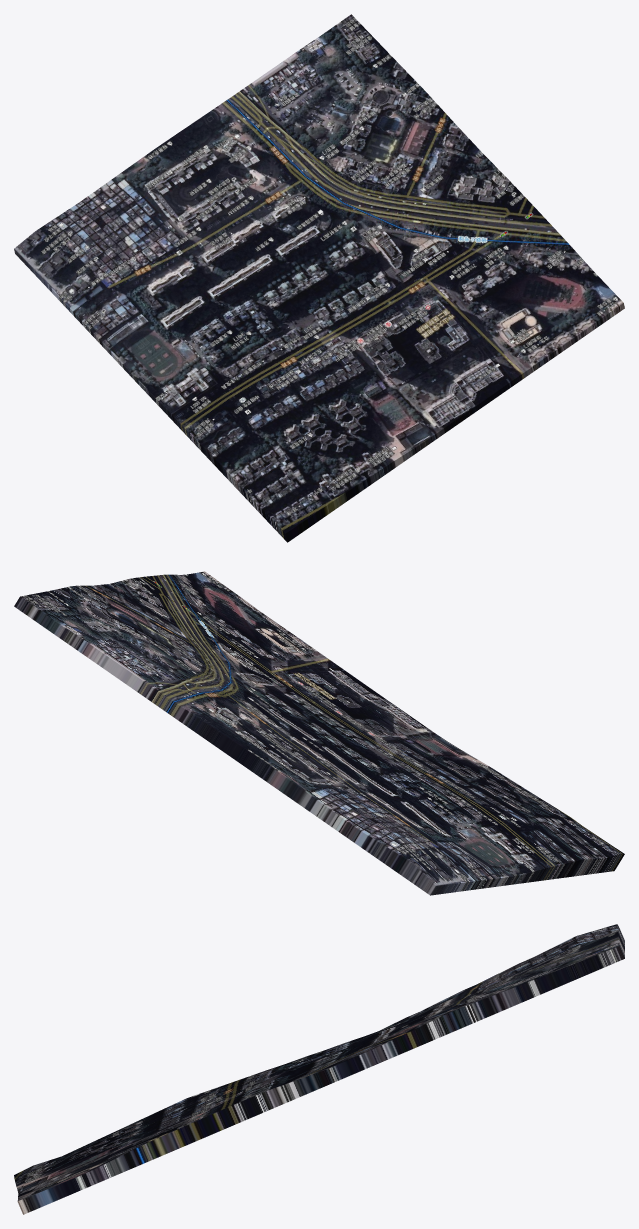
The picture shows the model from 3 angles, top to bottom: view 1: azimuth 30°, elevation 25°; view 2: azimuth 150°, elevation 25°; view 3: azimuth 270°, elevation 25°; orthographic projection. The views are drawn at different scales.
Parts seen in each view (by area): view 1: 0_20_17; view 2: 0_20_17; view 3: 0_20_17.
Boxes of the visible parts, left/top/right/bottom form: 0_20_17: left=14, top=14, right=624, bottom=542; 0_20_17: left=14, top=571, right=624, bottom=895; 0_20_17: left=14, top=924, right=624, bottom=1214.
Bounding box in the file's own units: 596 × 438 × 551.
1 material, 1 textured.
